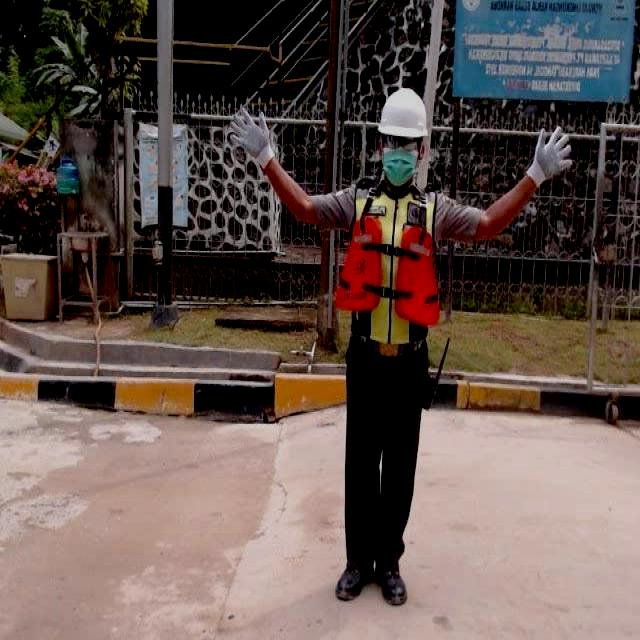vest: (338, 186, 441, 347)
